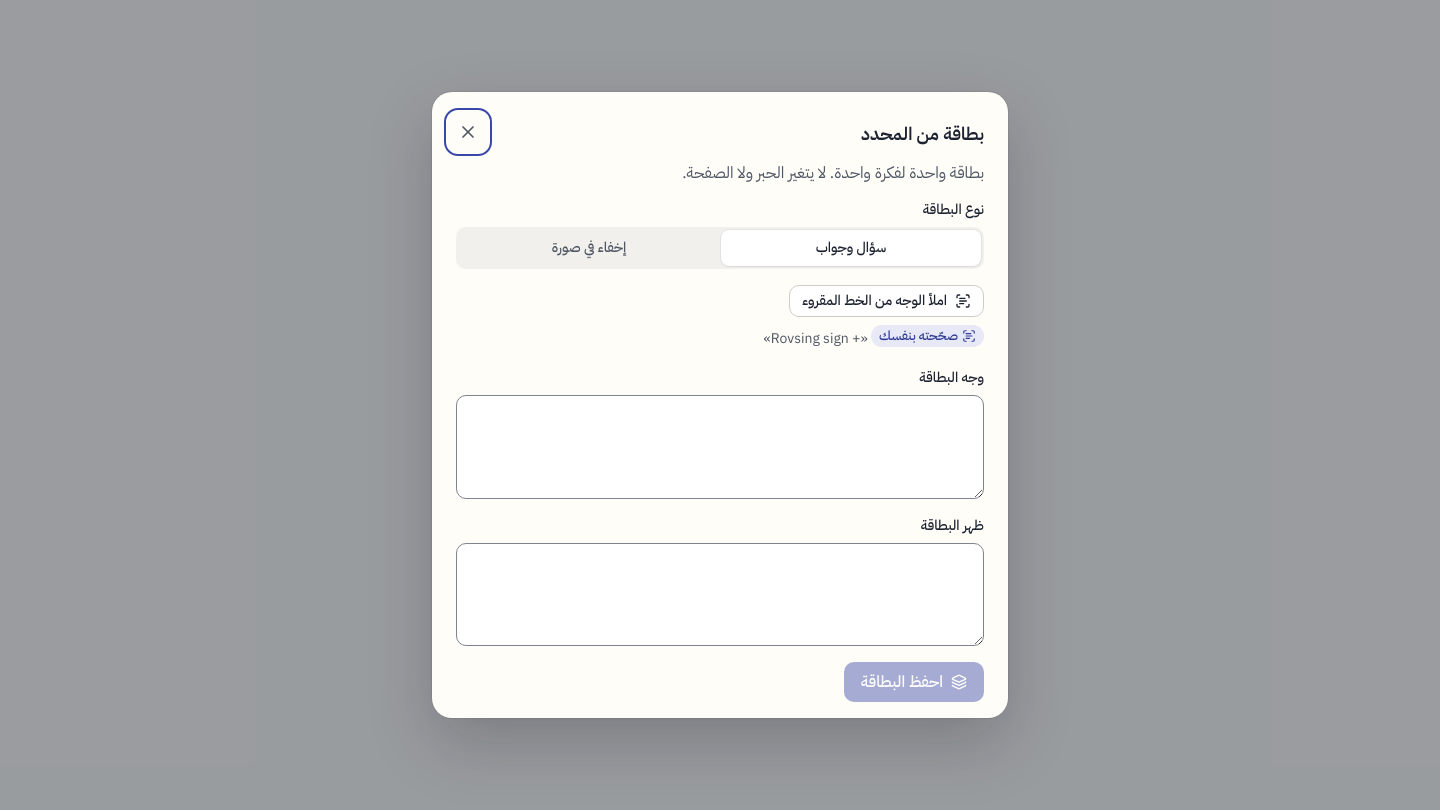
H3 item 4 — a card from the lasso selection › a reading of exactly these strokes fills the front (labelled as a derived reading)
Expected: the text "صحّحته بنفسك" is shown, [879, 326, 958, 346]
Click the button "املأ الوجه من الخط المقروء": (887, 301) [789, 285, 984, 317]
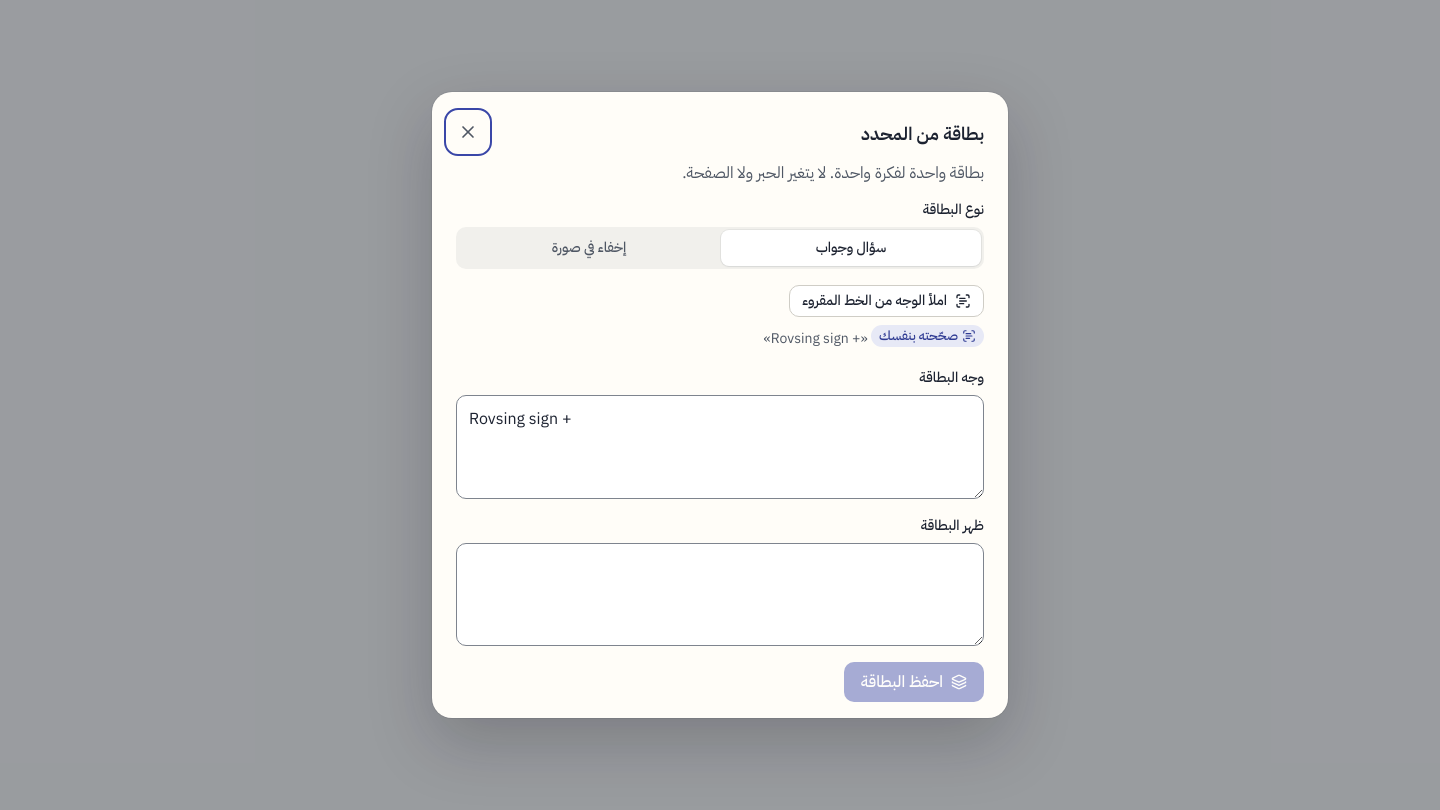
Expected: the text box labelled "وجه البطاقة" holds "Rovsing sign +", [456, 395, 984, 499]
